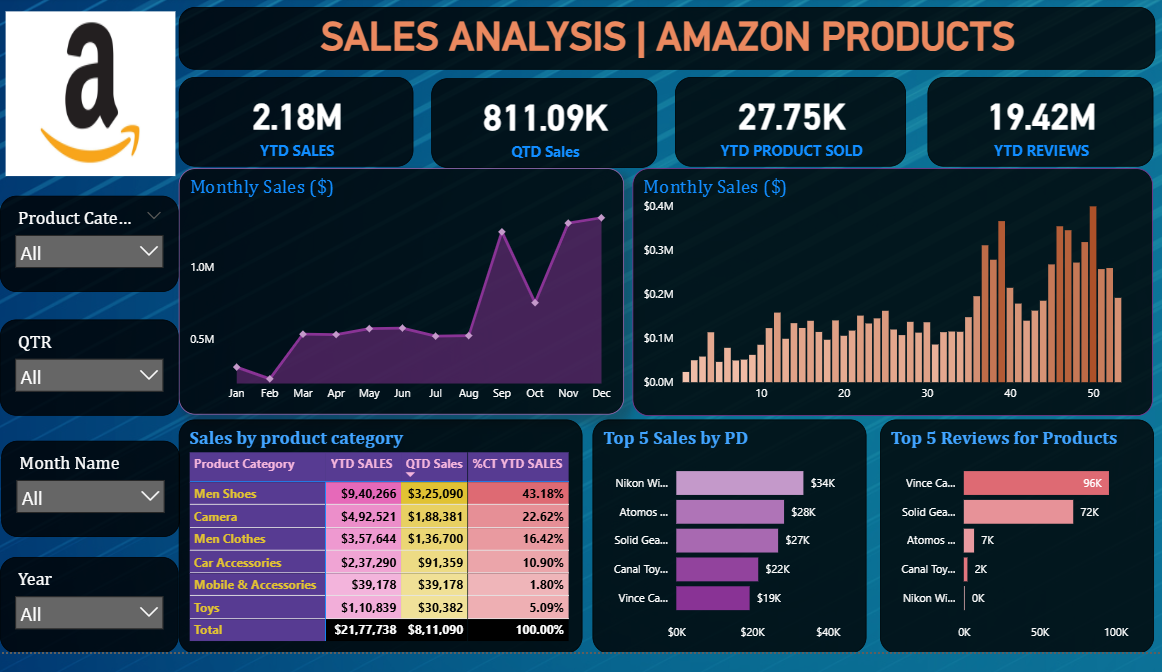

This screenshot's page, from the dashboard's own definition file:
{"tool":"powerbi","page":{"name":"Page 1","canvas":[1280,720],"ordinal":0},"visuals":[{"type":"group","id":"g1","title":"Group 1","box":[196,88,1070.3,371.9],"z":0},{"type":"areaChart","title":"Monthly Sales ($)","fields":{"Y":["Amazon_Data.Price(Dollar)"],"Category":["Date Table.Month Name"]},"box":[196,188.2,488.5,270.3],"z":0,"group":"g1"},{"type":"card","fields":{"Values":["Amazon_Data.YTD SALES"]},"box":[196,88.1,258,98.8],"z":1000,"group":"g1"},{"type":"pivotTable","title":"Sales by product category","fields":{"Rows":["Amazon_Data.Product Category"],"Values":["Amazon_Data.YTD SALES","Amazon_Data.QTD Sales","Divide(Amazon_Data.YTD SALES, ScopedEval(Amazon_Data.YTD SALES, [Role.Columns]))"]},"box":[196.2,463.8,443.2,256.6],"z":1000},{"type":"card","fields":{"Values":["Amazon_Data.QTD Sales"]},"box":[473.2,89.4,248.4,98.8],"z":2000,"group":"g1"},{"type":"clusteredBarChart","title":"Top 5 Sales by PD","fields":{"Y":["Amazon_Data.YTD SALES"],"Category":["Amazon_Data.Product Description"]},"box":[650.4,463.8,300.5,256.6],"z":2000},{"type":"card","fields":{"Values":["Amazon_Data.YTD PRODUCT SOLD"]},"box":[740.8,88,253.9,98.8],"z":3000,"group":"g1"},{"type":"clusteredBarChart","title":"Top 5 Reviews for Products","fields":{"Category":["Amazon_Data.Product Description"],"Y":["Amazon_Data.YTD REVIEWS"]},"box":[966,463.8,300.5,256.6],"z":3000},{"type":"card","fields":{"Values":["Amazon_Data.YTD REVIEWS"]},"box":[1018,88,248.4,98.8],"z":4000,"group":"g1"},{"type":"textbox","title":"SALES ANALYSIS  | AMAZON PRODUCTS","box":[196.2,11,1072,68.6],"z":4000},{"type":"columnChart","title":"Monthly Sales ($)","fields":{"Category":["Date Table.Week"],"Y":["Amazon_Data.Price(Dollar)"]},"box":[694.1,188.2,570.8,271.7],"z":5000,"group":"g1"},{"type":"slicer","fields":{"Values":["Amazon_Data.Product Category"]},"box":[0,218.2,196.2,105.7],"z":5000},{"type":"slicer","fields":{"Values":["Date Table.QTR"]},"box":[0,354,196.2,105.7],"z":6000},{"type":"slicer","fields":{"Values":["Date Table.Month Name"]},"box":[1.4,487.1,196.2,105.7],"z":7000},{"type":"image","box":[1.4,11,196.2,190.7],"z":8000},{"type":"slicer","fields":{"Values":["Date Table.Year"]},"box":[0,614.8,196.2,105.7],"z":8001}]}

Visuals, with their boxes on the page's 1280x720 design canvas (x1, y1, x2, y2). These are canvas units, not pixel positions in the 1162x672 screenshot, which may show the page scaled, cropped or inside an application window:
"Group 1" group: bbox(196, 88, 1266, 460)
"Monthly Sales ($)" areaChart: bbox(196, 188, 684, 458)
card - Amazon_Data.YTD SALES: bbox(196, 88, 454, 187)
"Sales by product category" pivotTable: bbox(196, 464, 639, 720)
card - Amazon_Data.QTD Sales: bbox(473, 89, 722, 188)
"Top 5 Sales by PD" clusteredBarChart: bbox(650, 464, 951, 720)
card - Amazon_Data.YTD PRODUCT SOLD: bbox(741, 88, 995, 187)
"Top 5 Reviews for Products" clusteredBarChart: bbox(966, 464, 1266, 720)
card - Amazon_Data.YTD REVIEWS: bbox(1018, 88, 1266, 187)
"SALES ANALYSIS  | AMAZON PRODUCTS" textbox: bbox(196, 11, 1268, 80)
"Monthly Sales ($)" columnChart: bbox(694, 188, 1265, 460)
slicer - Amazon_Data.Product Category: bbox(0, 218, 196, 324)
slicer - Date Table.QTR: bbox(0, 354, 196, 460)
slicer - Date Table.Month Name: bbox(1, 487, 198, 593)
image: bbox(1, 11, 198, 202)
slicer - Date Table.Year: bbox(0, 615, 196, 720)
